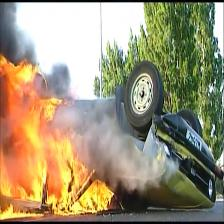fire: (0, 44, 115, 218)
smoke: (67, 93, 181, 199), (0, 2, 54, 61)
